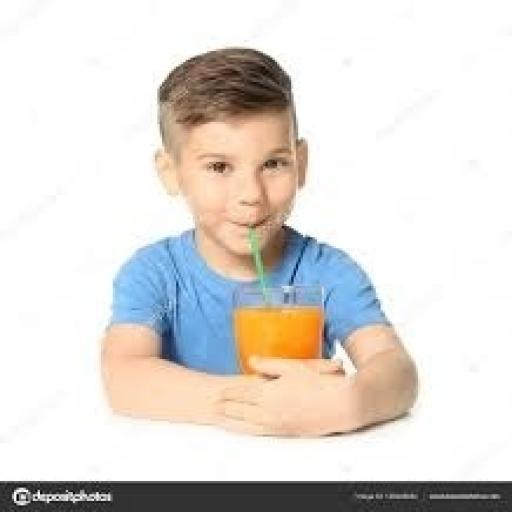drinking: (230, 281, 324, 377)
